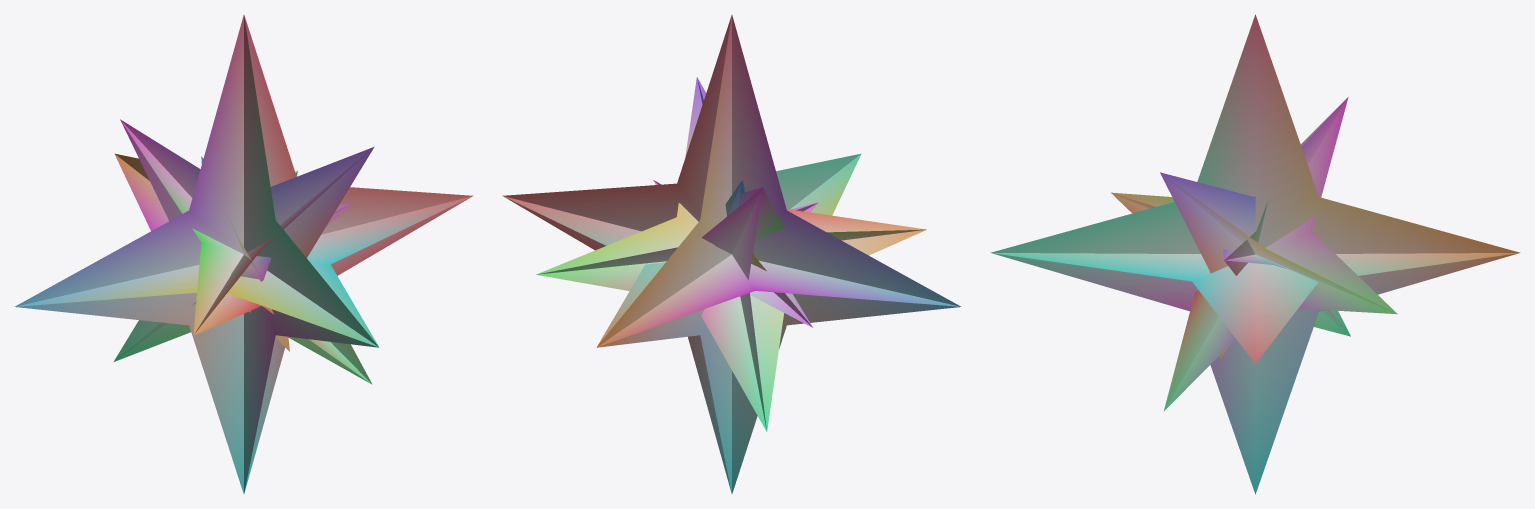
Rendered from space-stars-star_v14.glb.
The picture shows the model from 3 angles, left to right: view 1: azimuth 30°, elevation 25°; view 2: azimuth 150°, elevation 25°; view 3: azimuth 270°, elevation 25°; orthographic projection.
Visible parts, largest first — view 1: Star_v14; view 2: Star_v14; view 3: Star_v14.
Part boxes in pixels (x1,y1,x2,y2): Star_v14: (14, 15, 473, 493); Star_v14: (502, 15, 961, 493); Star_v14: (990, 14, 1520, 494).
Size of the model in its own units: 0.5 by 0.5 by 0.5.
